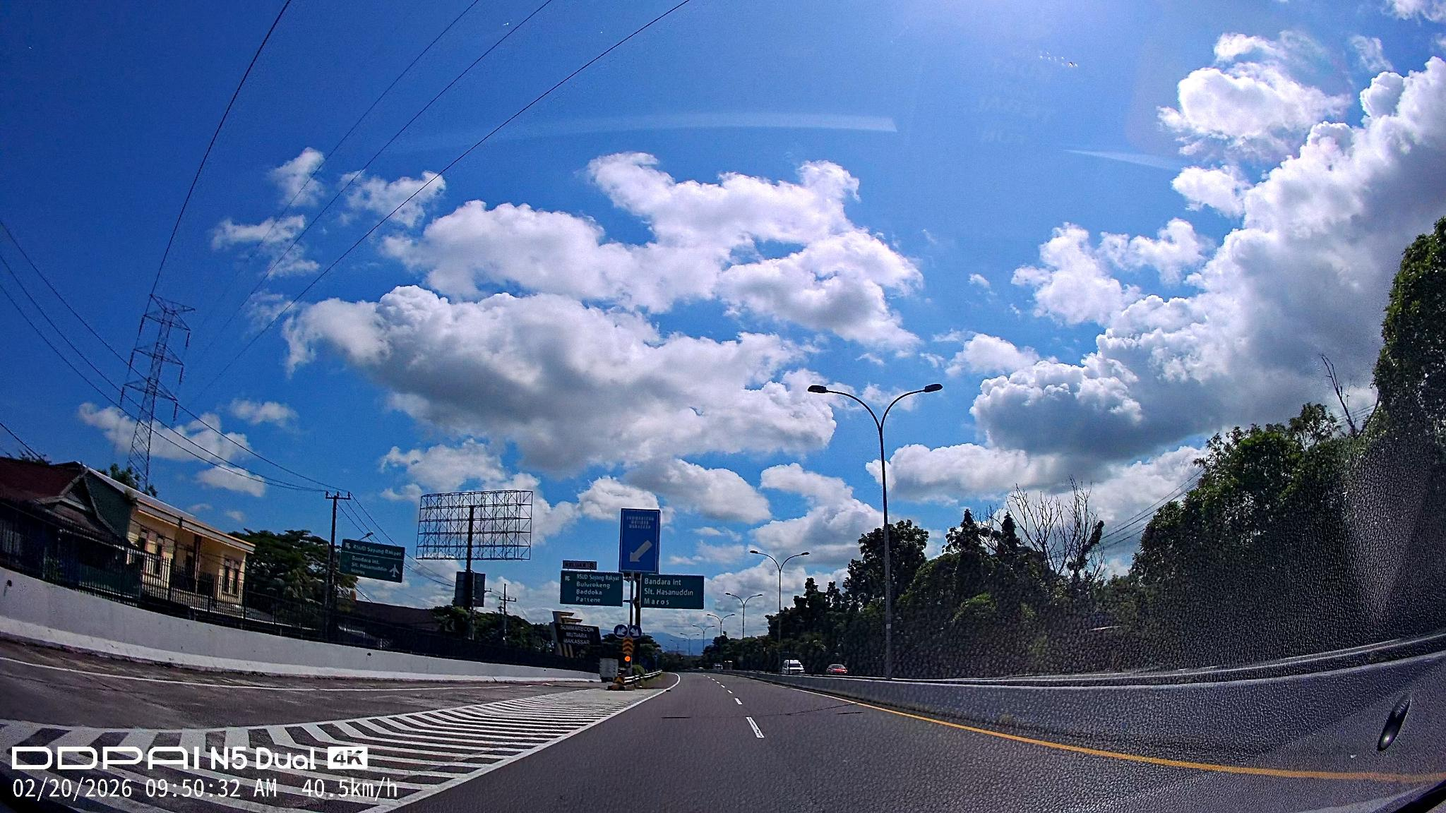rambu_teks: (639, 573, 705, 610), (560, 570, 624, 607)
